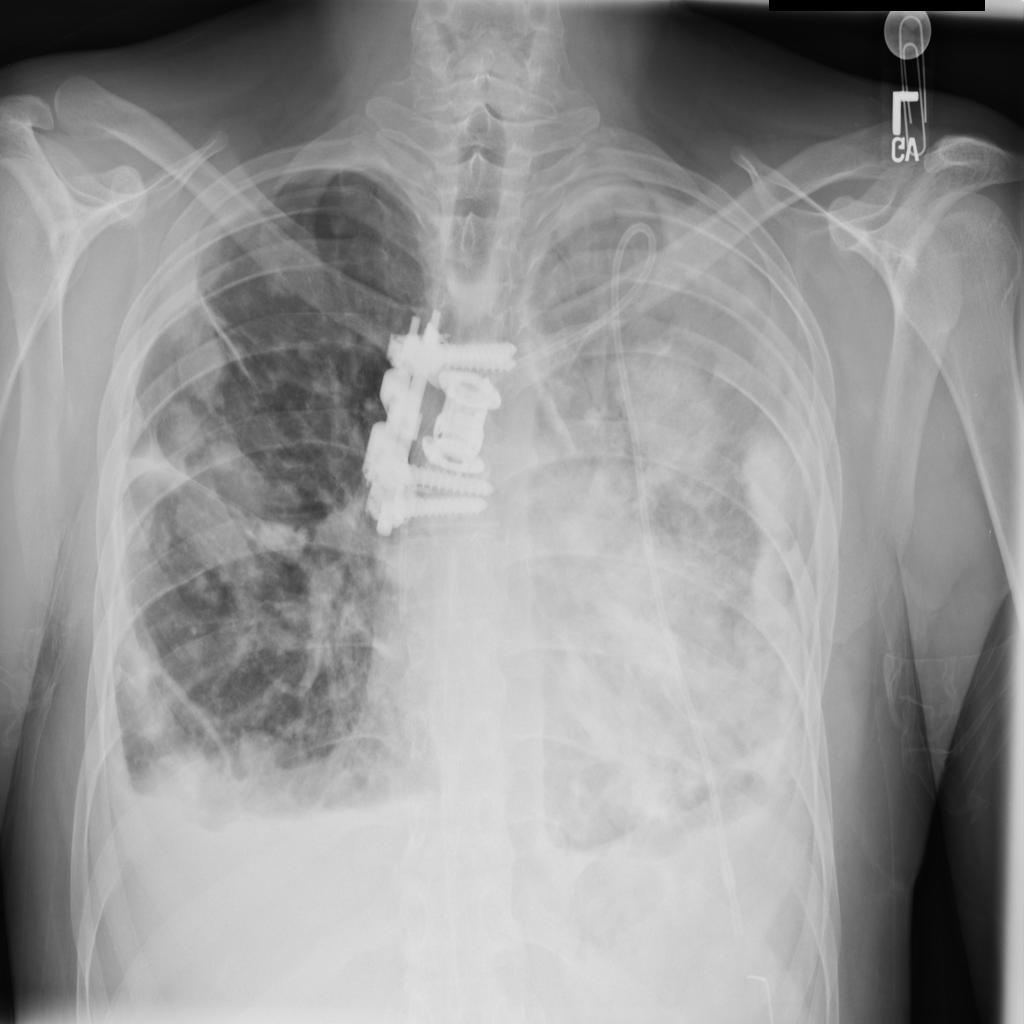nodule: (603, 313, 744, 485), (169, 438, 286, 562), (727, 409, 817, 546), (225, 712, 294, 794), (159, 318, 228, 396), (110, 483, 175, 560), (154, 393, 221, 464), (318, 200, 368, 249)
